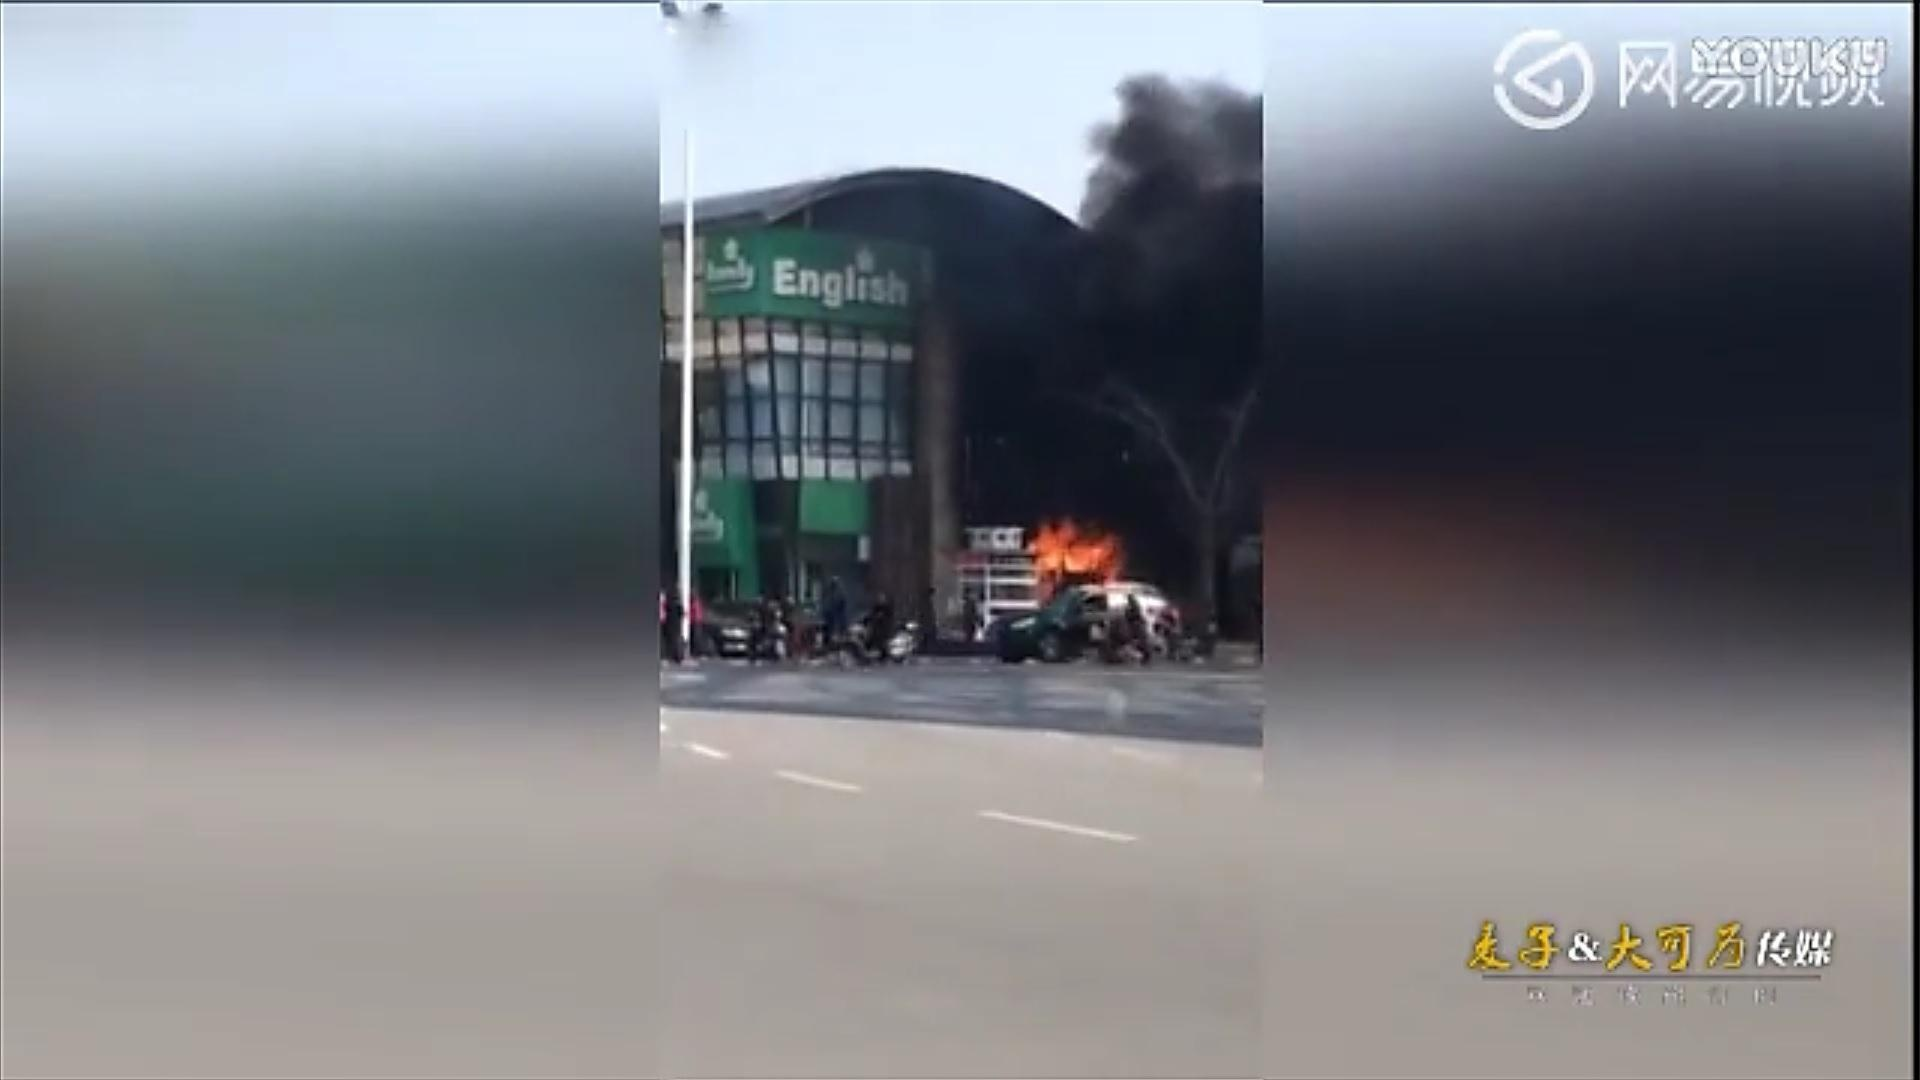fire: (1030, 516, 1124, 580)
